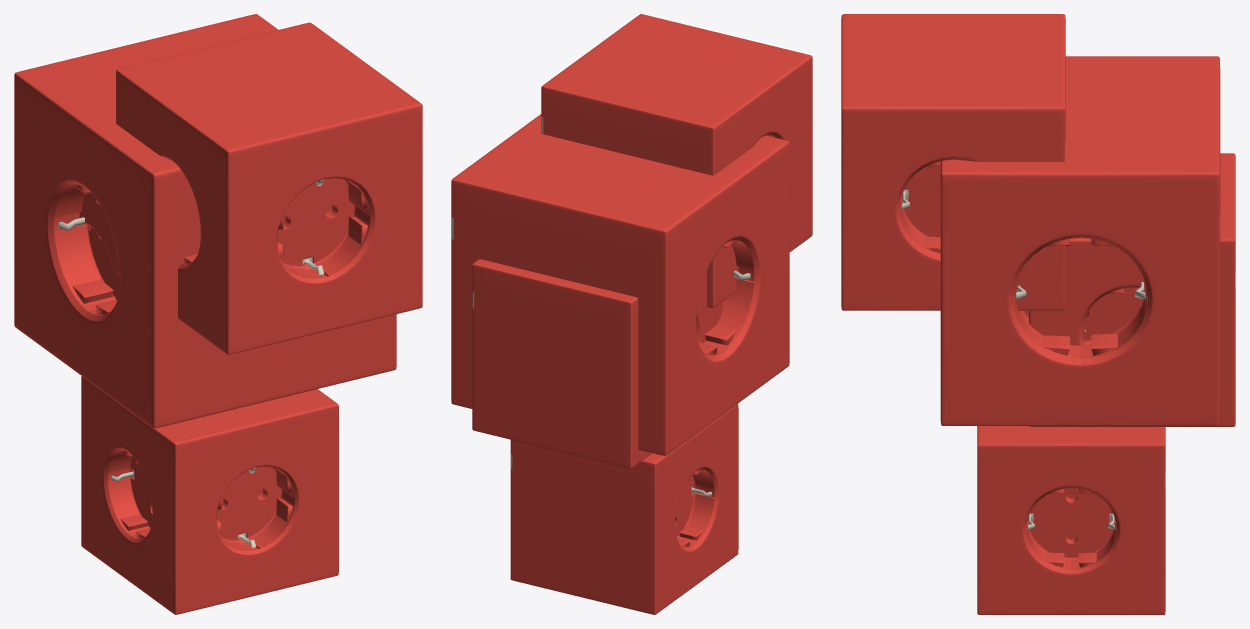
File: Blend-sim004-fixed-compressed.glb
3 renders of one model, left to right at view 1: azimuth 30°, elevation 25°; view 2: azimuth 150°, elevation 25°; view 3: azimuth 270°, elevation 25°, orthographic. The views are drawn at different scales.
Visible parts, largest first — view 1: box01, box03, box04, box02; view 2: box03, box01, box04, box02; view 3: box03, box01, box04, box02.
Part boxes in pixels (box(x1,y1,x2,y2)): box01: box(116, 22, 422, 354); box03: box(14, 14, 396, 428); box04: box(81, 376, 338, 614); box02: box(79, 192, 119, 299); box03: box(451, 114, 789, 455); box01: box(541, 14, 812, 307); box04: box(510, 403, 738, 614); box02: box(472, 259, 722, 468); box03: box(940, 56, 1220, 425); box01: box(841, 14, 1065, 310); box04: box(977, 426, 1165, 614); box02: box(1029, 153, 1235, 426).
Bounding box in the file's own units: 0.1779 × 0.3612 × 0.2506.
8 materials, 8 textured.
